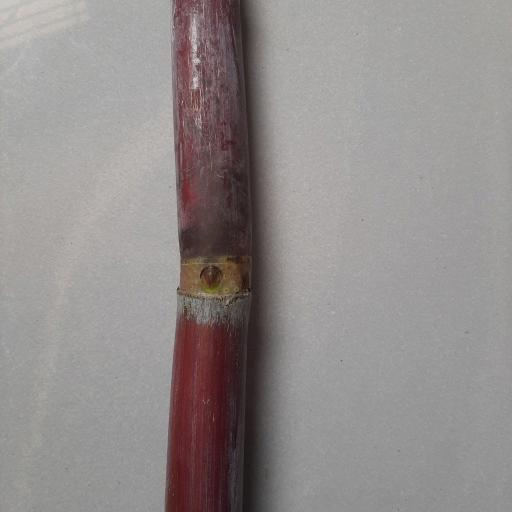Bud: (198, 265, 225, 294)
